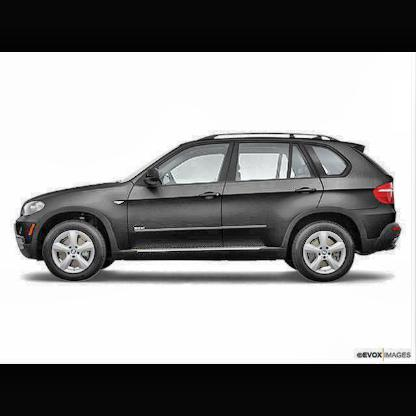BMW X5 SUV 2007: (16, 133, 402, 283)
